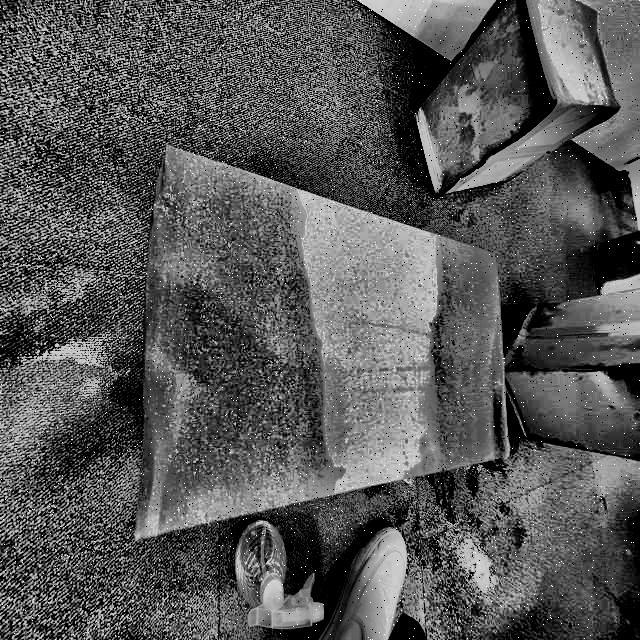box: (101, 145, 514, 552)
wet: (140, 139, 348, 523), (421, 244, 512, 479)
